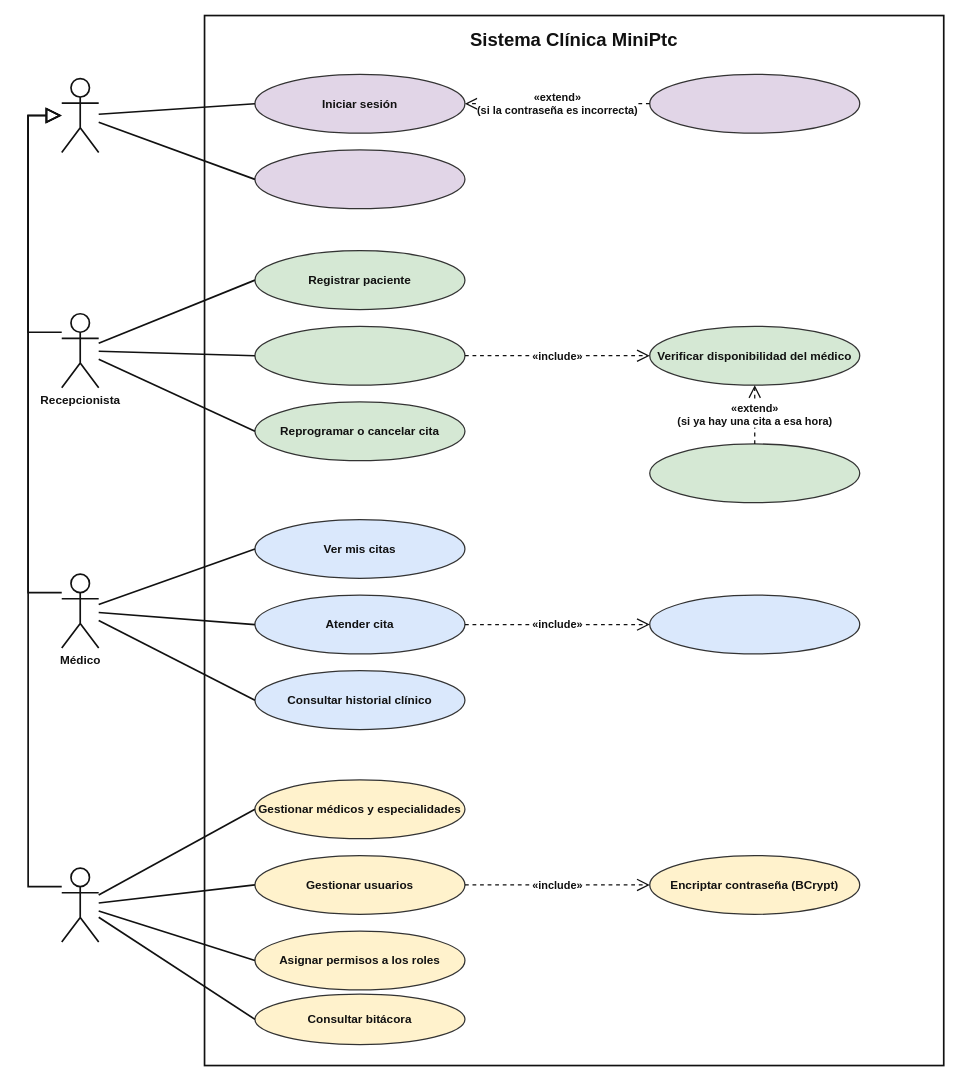
Image size: 958x1080. Some labels were removed from this diagram. Here are the shapes that lost their labels. From the top down, the centre of each, then its label:
(x=79, y=115): Usuario
(x=754, y=103): Mostrar mensaje de acceso denegado
(x=359, y=179): Cerrar sesión
(x=359, y=355): Agendar cita
(x=754, y=473): Avisar horario ocupado
(x=754, y=624): Registrar diagnóstico y tratamiento
(x=79, y=904): Administrador
